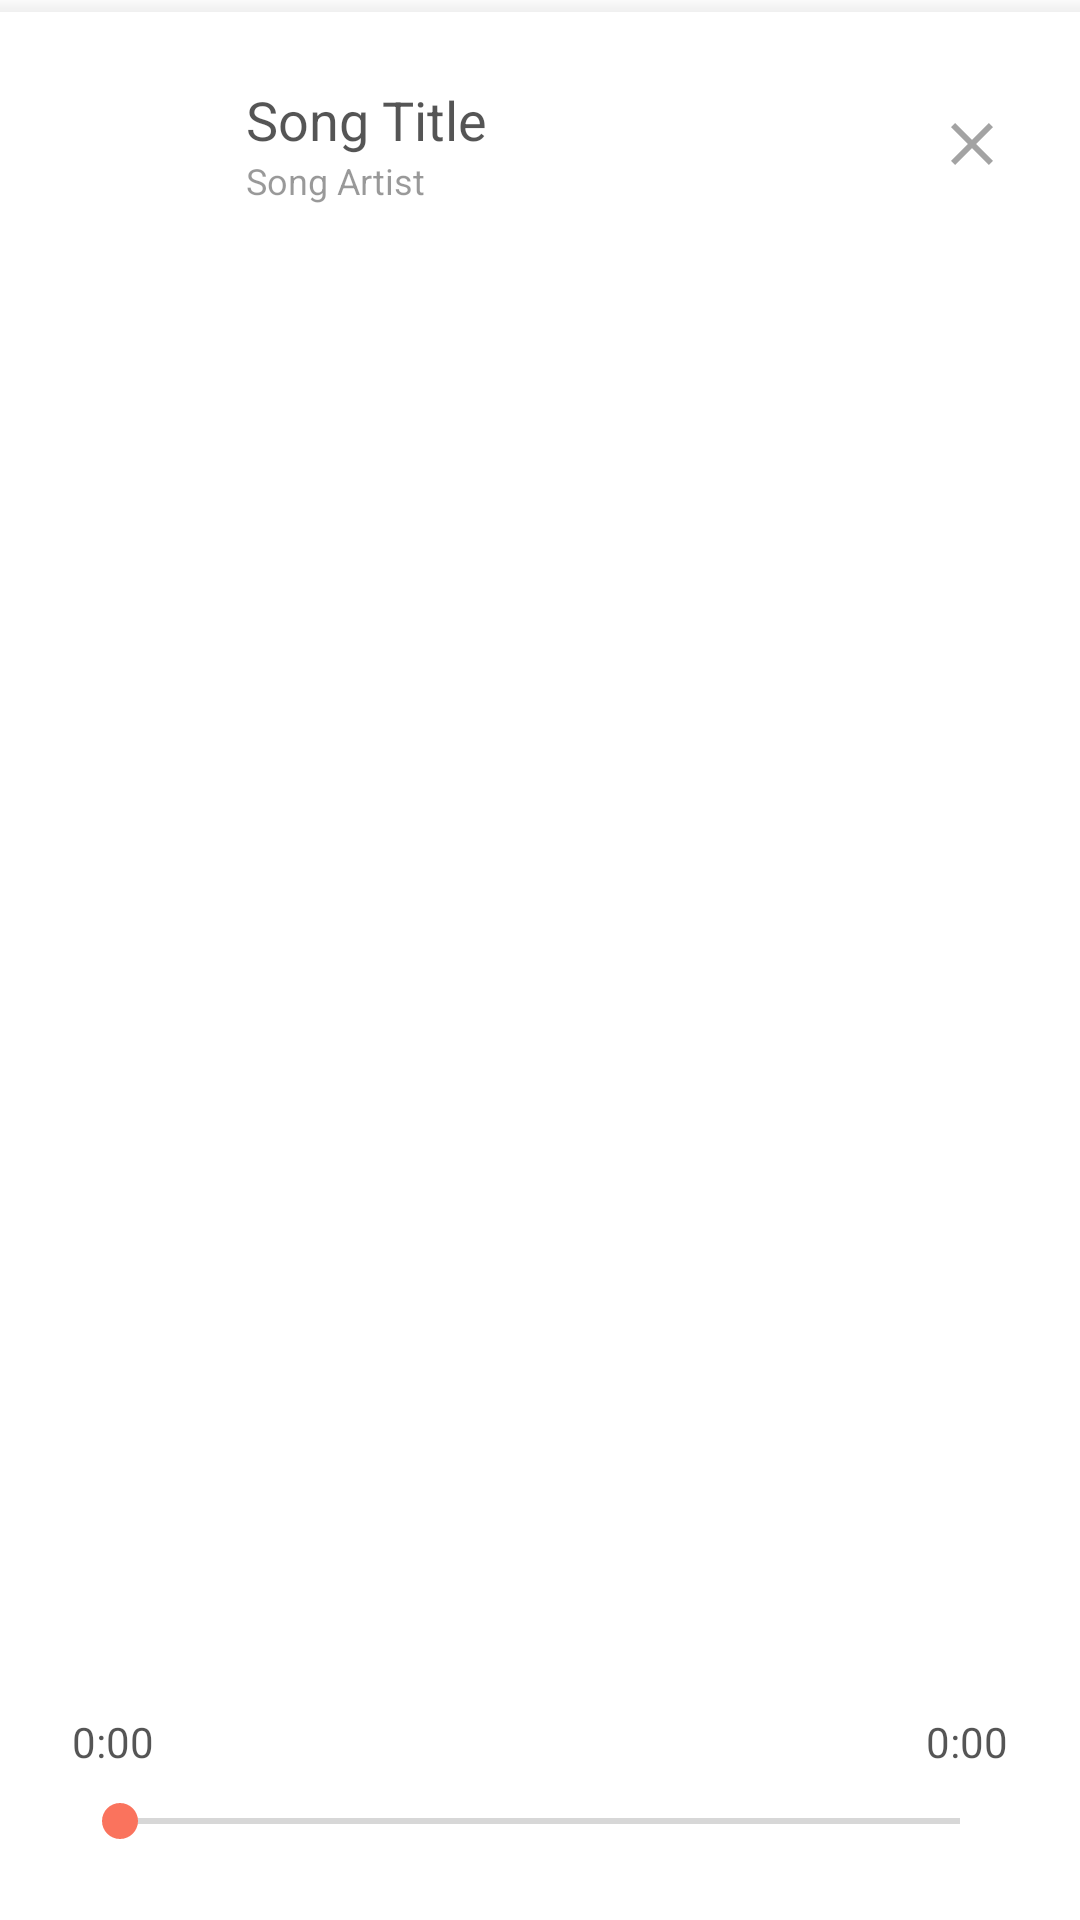

Locate icon controls on the screen. Image size 1080x1920, boxes as bbox=[x1, y1, x2, y2].
Close Player: bbox=[951, 123, 993, 165]
